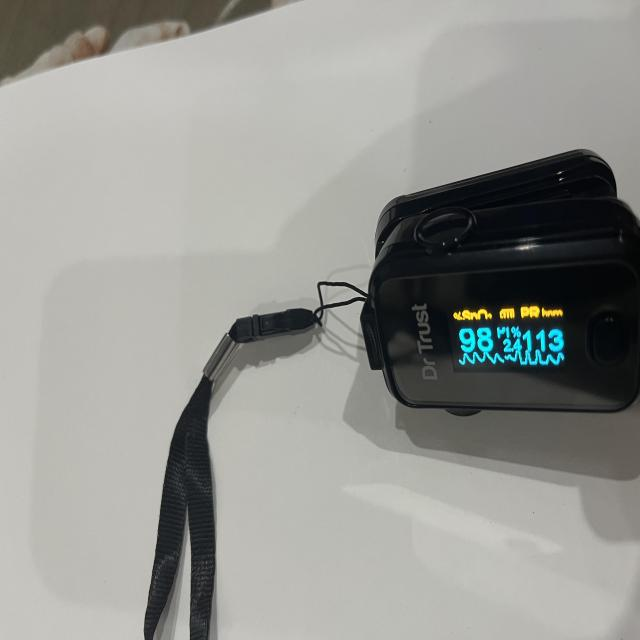spo2: (360, 150, 640, 417)
